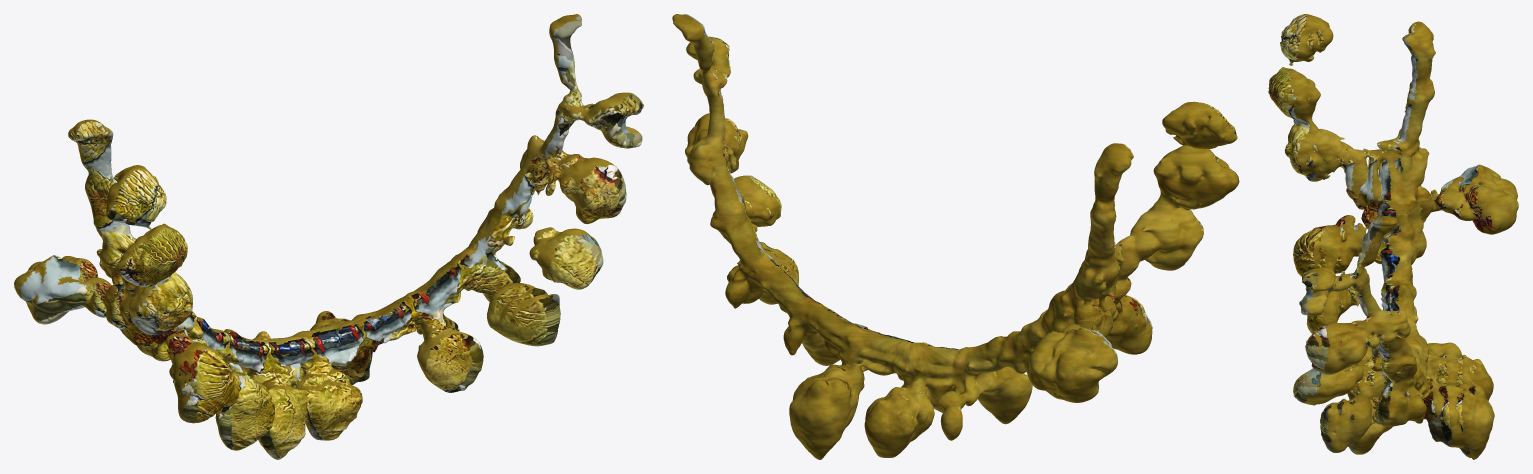
Rendered from ane-07.glb.
3 renders of one model, left to right at view 1: azimuth 30°, elevation 25°; view 2: azimuth 150°, elevation 25°; view 3: azimuth 270°, elevation 25°, orthographic. The views are drawn at different scales.
Parts seen in each view (by area): view 1: ane-07; view 2: ane-07; view 3: ane-07.
Boxes of the visible parts, left/top/right/bottom form: ane-07: left=14, top=14, right=643, bottom=459; ane-07: left=672, top=14, right=1239, bottom=459; ane-07: left=1268, top=14, right=1518, bottom=459.
Size of the model in its own units: 0.9943 by 0.6416 by 0.4511.
Materials: 2 (2 with a texture image).
